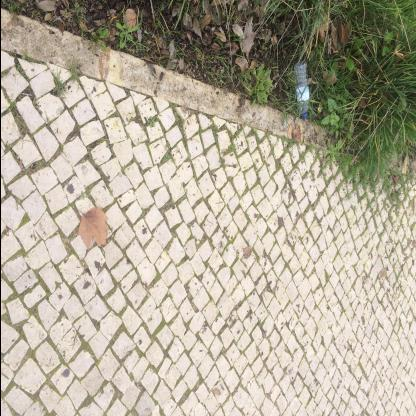plastik: (294, 63, 310, 121)
